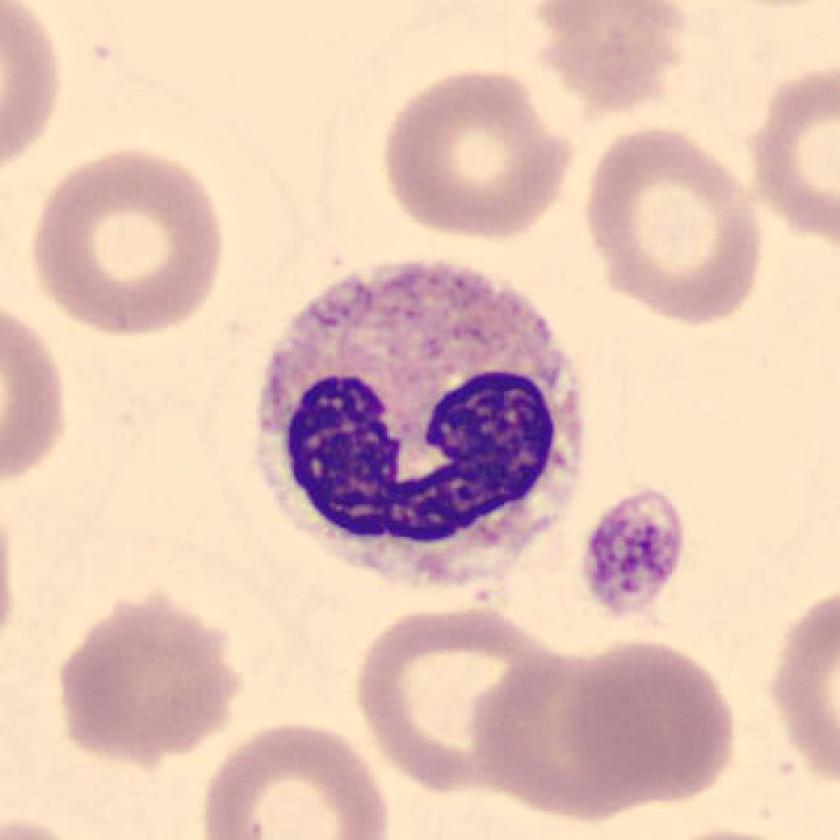neutrophil: (259, 266, 579, 583)
